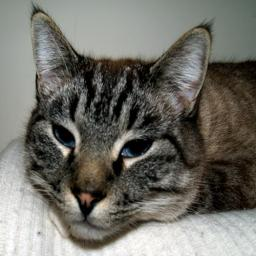catnose: (70, 189, 103, 217)
